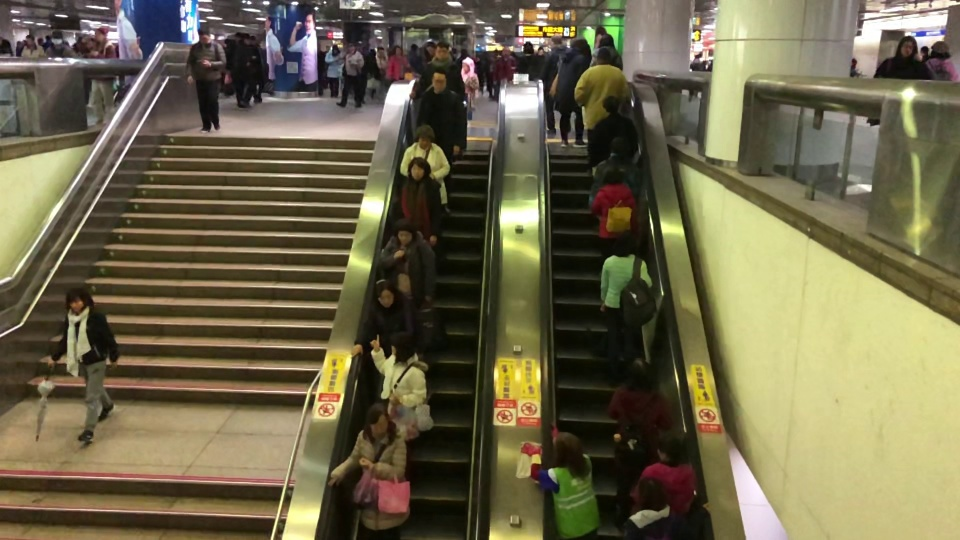person_head: (655, 428, 689, 461), (553, 430, 584, 465), (636, 476, 666, 511), (365, 402, 389, 436), (627, 357, 654, 385), (392, 215, 417, 243), (65, 287, 92, 312), (389, 331, 415, 356), (375, 279, 397, 308), (407, 156, 430, 181), (612, 233, 634, 257), (416, 124, 435, 149), (898, 35, 917, 56), (610, 136, 629, 156), (430, 70, 447, 92), (930, 40, 950, 58), (602, 167, 622, 183), (602, 95, 619, 113), (434, 41, 449, 60), (196, 26, 211, 44), (94, 26, 109, 43), (598, 32, 615, 46), (595, 51, 611, 65), (572, 36, 587, 50), (550, 34, 563, 47), (52, 28, 62, 43), (236, 32, 248, 44), (252, 36, 262, 46), (25, 33, 34, 44), (919, 44, 928, 55), (394, 45, 403, 55), (502, 46, 510, 57), (460, 51, 468, 61), (348, 43, 355, 52), (850, 58, 856, 67), (537, 46, 543, 54), (332, 43, 338, 50), (378, 46, 384, 53), (694, 53, 699, 59)
person_vbox: (606, 356, 674, 532), (46, 287, 121, 446), (327, 402, 410, 540), (521, 423, 600, 540), (600, 234, 657, 388), (573, 51, 631, 175), (414, 69, 463, 215), (863, 35, 933, 127), (628, 428, 697, 516), (349, 279, 416, 361), (378, 215, 437, 308), (368, 330, 429, 409), (184, 26, 227, 133), (591, 166, 638, 261), (398, 124, 452, 206), (395, 156, 444, 246), (554, 35, 591, 149), (590, 95, 639, 178), (623, 476, 686, 540), (588, 137, 640, 209), (409, 40, 465, 102), (88, 27, 119, 125), (541, 34, 564, 135), (335, 43, 366, 108), (230, 32, 253, 111), (460, 51, 479, 127), (925, 39, 958, 82), (590, 32, 624, 68), (251, 35, 268, 104), (324, 43, 344, 96), (492, 46, 517, 83), (385, 45, 409, 83), (44, 28, 75, 57), (375, 46, 387, 103), (687, 52, 700, 101), (21, 33, 43, 58), (849, 58, 862, 77), (0, 37, 12, 56)
